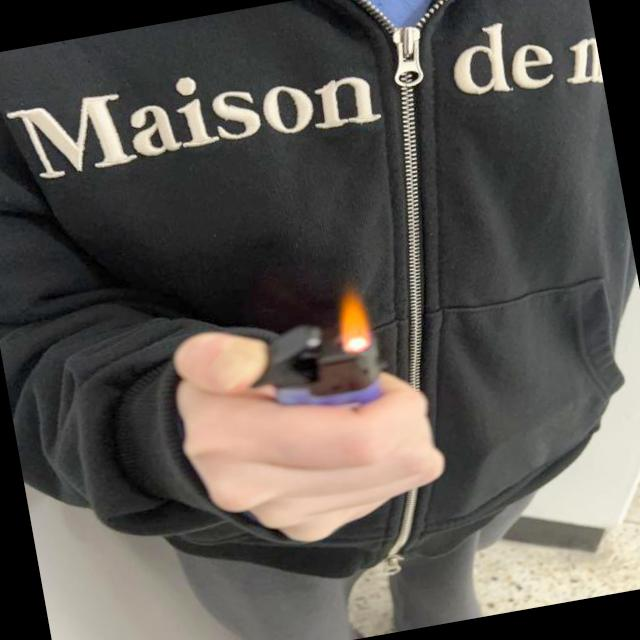fire: (333, 290, 372, 350)
